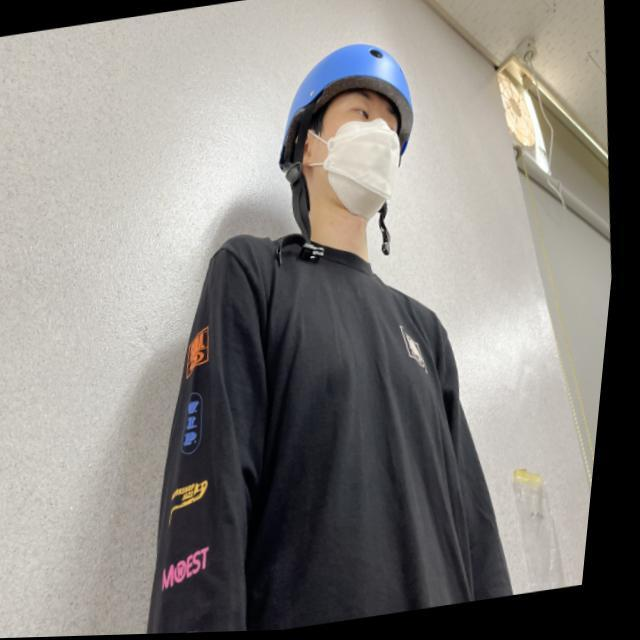Helmet: (274, 40, 418, 255)
